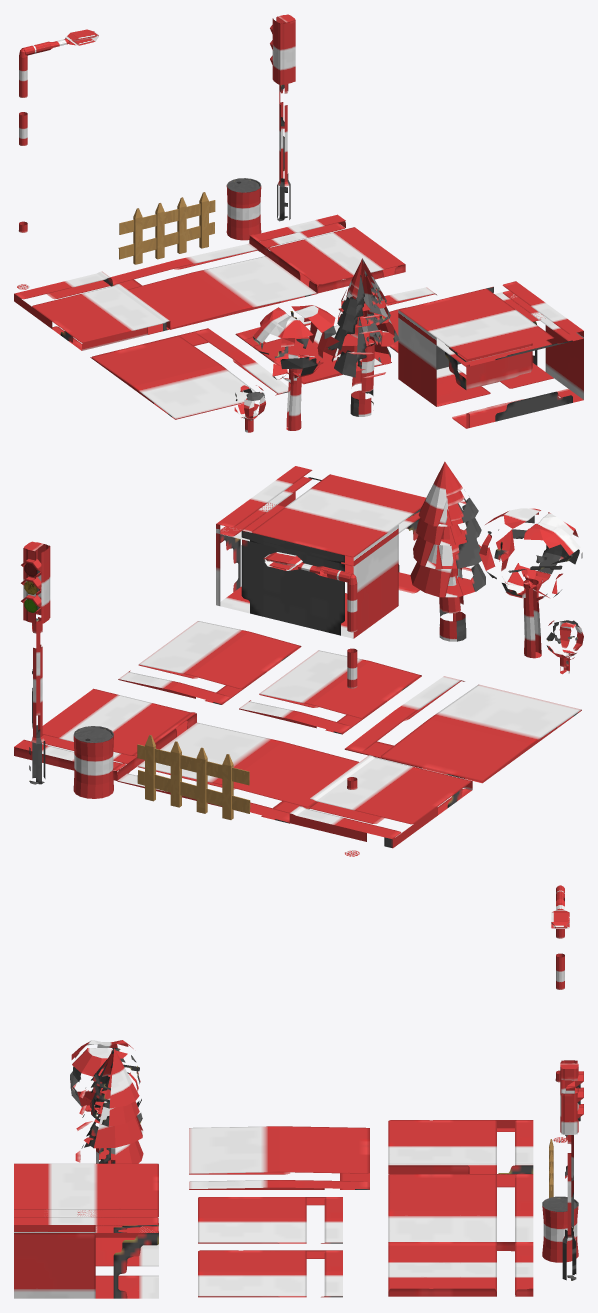
File: pack.fbx
The picture shows the model from 3 angles, top to bottom: view 1: azimuth 30°, elevation 25°; view 2: azimuth 150°, elevation 25°; view 3: azimuth 270°, elevation 25°; orthographic projection. The views are drawn at different scales.
Parts seen in each view (by area): view 1: cuboid_15, cuboid_10, cuboid_11, cuboid_16, cuboid_13, cuboid_12, sphere, cylinder, cuboid_9, cone, cuboid_14, cone_1 (+10 smaller); view 2: cuboid_15, cuboid_10, cuboid_16, cuboid_13, cuboid_11, cuboid_8, cuboid_9, cuboid_12, sphere, cylinder, cone, cylinder_4 (+14 smaller); view 3: cuboid_15, cuboid_10, cuboid_11, cuboid_16, cuboid_12, cuboid_13, cuboid_8, cuboid_9, cylinder, sphere, cone_1, cone_3 (+5 smaller).
Part boxes in pixels (left/top/right/bottom): cuboid_15: left=398, top=290, right=583, bottom=428; cuboid_10: left=90, top=328, right=288, bottom=419; cuboid_11: left=110, top=243, right=317, bottom=329; cuboid_16: left=398, top=281, right=583, bottom=367; cuboid_13: left=14, top=271, right=170, bottom=350; cuboid_12: left=249, top=214, right=405, bottom=293; sphere: left=252, top=305, right=339, bottom=379; cylinder: left=226, top=178, right=261, bottom=240; cuboid_9: left=235, top=317, right=391, bottom=384; cone: left=331, top=301, right=390, bottom=377; cuboid_14: left=272, top=14, right=295, bottom=85; cone_1: left=334, top=270, right=399, bottom=354; cuboid_15: left=216, top=477, right=420, bottom=638; cuboid_10: left=344, top=676, right=581, bottom=783; cuboid_16: left=216, top=466, right=425, bottom=566; cuboid_13: left=289, top=755, right=472, bottom=848; cuboid_11: left=117, top=722, right=358, bottom=823; cuboid_8: left=118, top=621, right=301, bottom=704; cuboid_9: left=239, top=650, right=421, bottom=734; cuboid_12: left=14, top=688, right=196, bottom=780; sphere: left=479, top=508, right=582, bottom=598; cylinder: left=73, top=726, right=113, bottom=798; cone: left=410, top=524, right=485, bottom=597; cylinder_4: left=29, top=617, right=45, bottom=784; cuboid_15: left=14, top=1181, right=158, bottom=1298; cuboid_10: left=189, top=1126, right=369, bottom=1189; cuboid_11: left=388, top=1174, right=533, bottom=1251; cuboid_16: left=14, top=1163, right=158, bottom=1232; cuboid_12: left=388, top=1242, right=533, bottom=1296; cuboid_13: left=388, top=1120, right=533, bottom=1174; cuboid_8: left=198, top=1250, right=342, bottom=1297; cuboid_9: left=198, top=1197, right=342, bottom=1243; cylinder: left=542, top=1196, right=578, bottom=1262; sphere: left=70, top=1040, right=141, bottom=1114; cone_1: left=76, top=1063, right=143, bottom=1148; cone_3: left=79, top=1048, right=139, bottom=1108.
Bounding box in the file's own units: 69.38 × 48.59 × 98.28.
23 materials, 23 textured.
